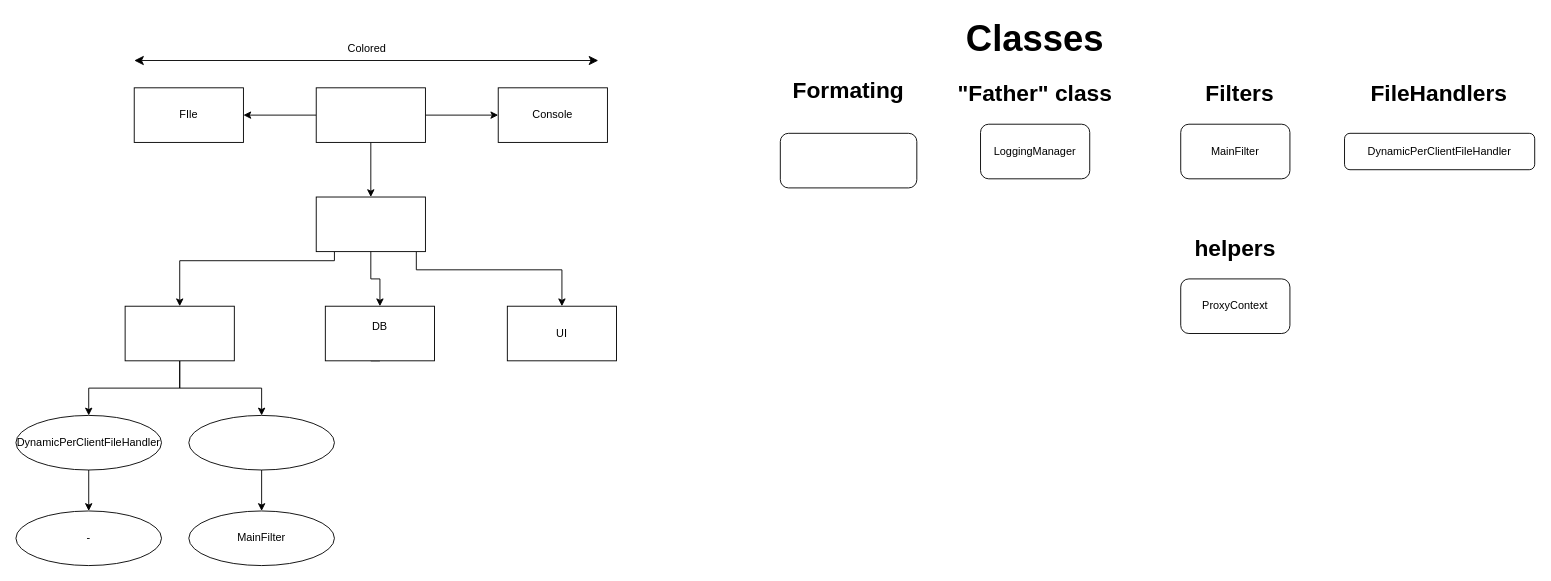
Some shapes in this 1551 by 581 pixel diagram are drawn without their labels. The shapes that lost their labels are listed below. From the top down, each one's centre as x and y in pixels, then its label:
At [370,114]: "root logging".
At [848,160]: "ColoredConsoleLogging".
At [370,224]: "proxy logger".
At [179,333]: "Core + Logic logger".
At [261,442]: "MainLogFileHandler".
